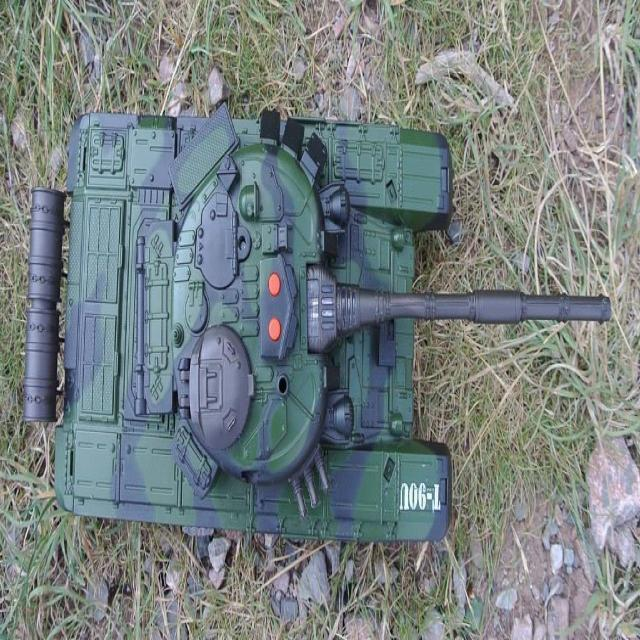Tanks: (33, 130, 455, 525)
